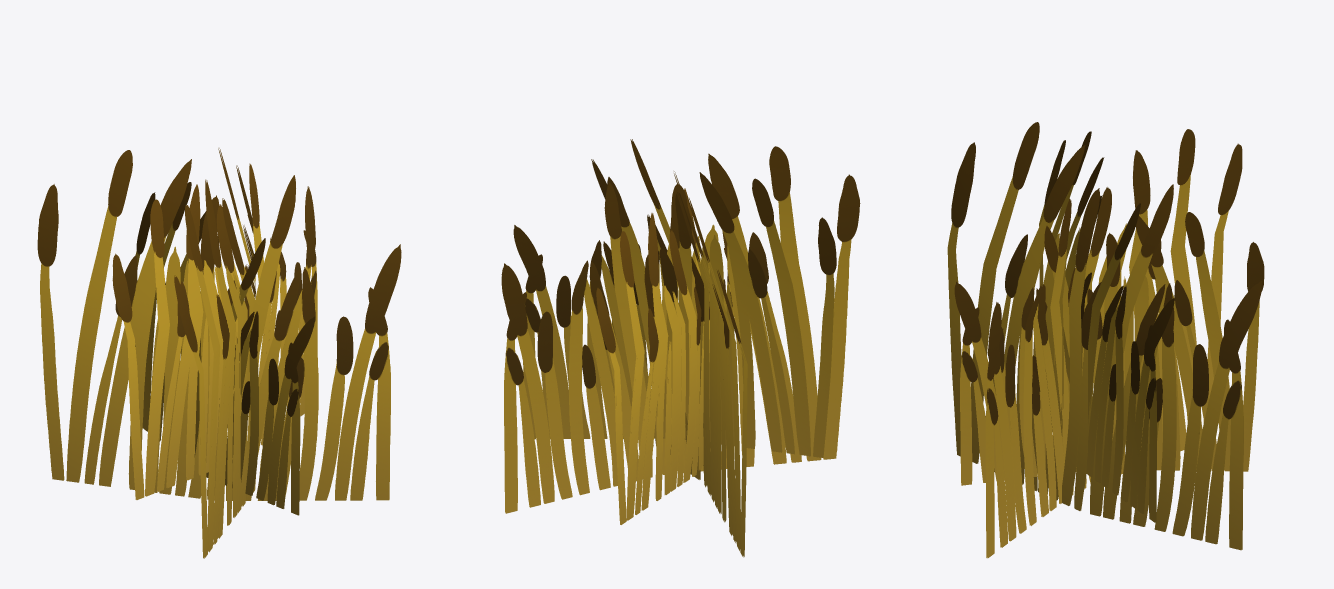
Rendered from Wheat.fbx.
The picture shows the model from 3 angles, left to right: view 1: azimuth 30°, elevation 25°; view 2: azimuth 150°, elevation 25°; view 3: azimuth 270°, elevation 25°; orthographic projection. The views are drawn at different scales.
Parts seen in each view (by area): view 1: Wheat; view 2: Wheat; view 3: Wheat.
Part boxes in pixels (bbox=[...]): Wheat: bbox=[37, 148, 401, 558]; Wheat: bbox=[501, 139, 860, 557]; Wheat: bbox=[947, 122, 1264, 558].
Size of the model in its own units: 182 by 198 by 173.
1 material, 1 textured.
